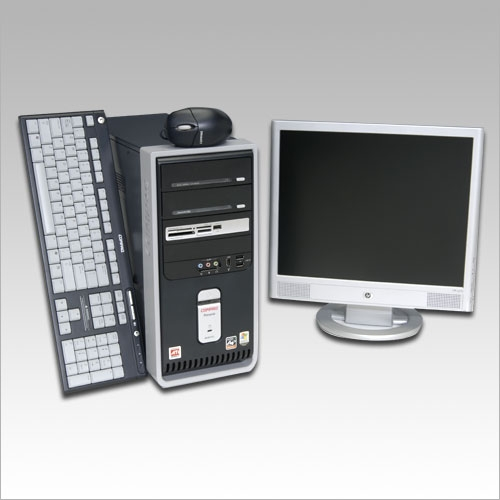Teclado: (16, 109, 149, 399)
